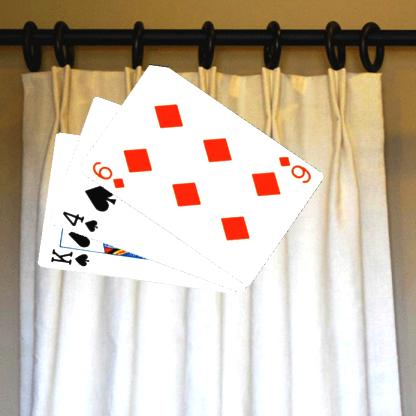4S: (59, 209, 99, 233)
6D: (89, 158, 126, 190), (275, 154, 312, 186)
KS: (48, 246, 90, 268)
